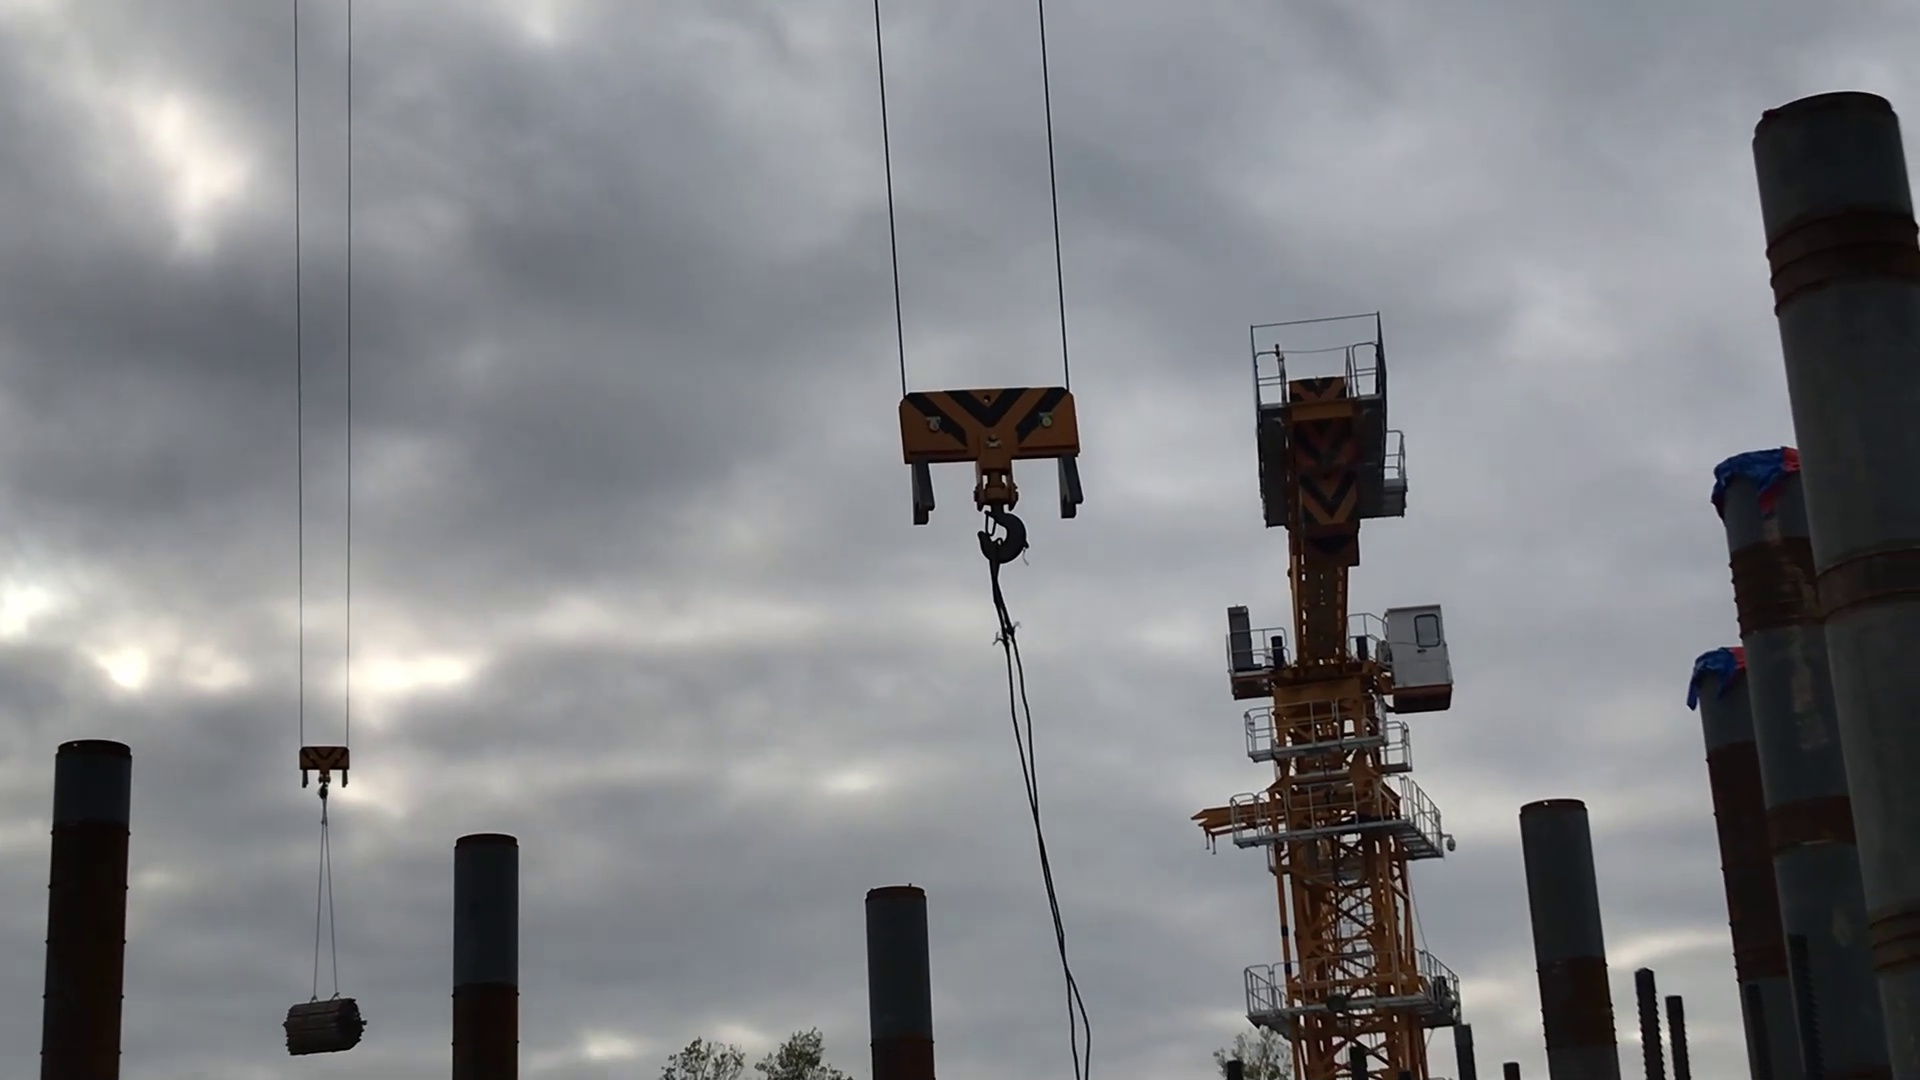hook: (872, 385, 1101, 574), (293, 736, 359, 800)
